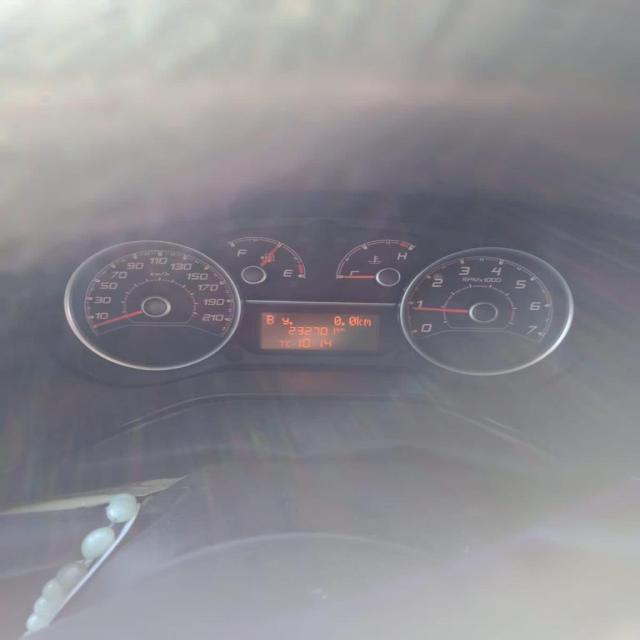odometer: (252, 310, 385, 354)
